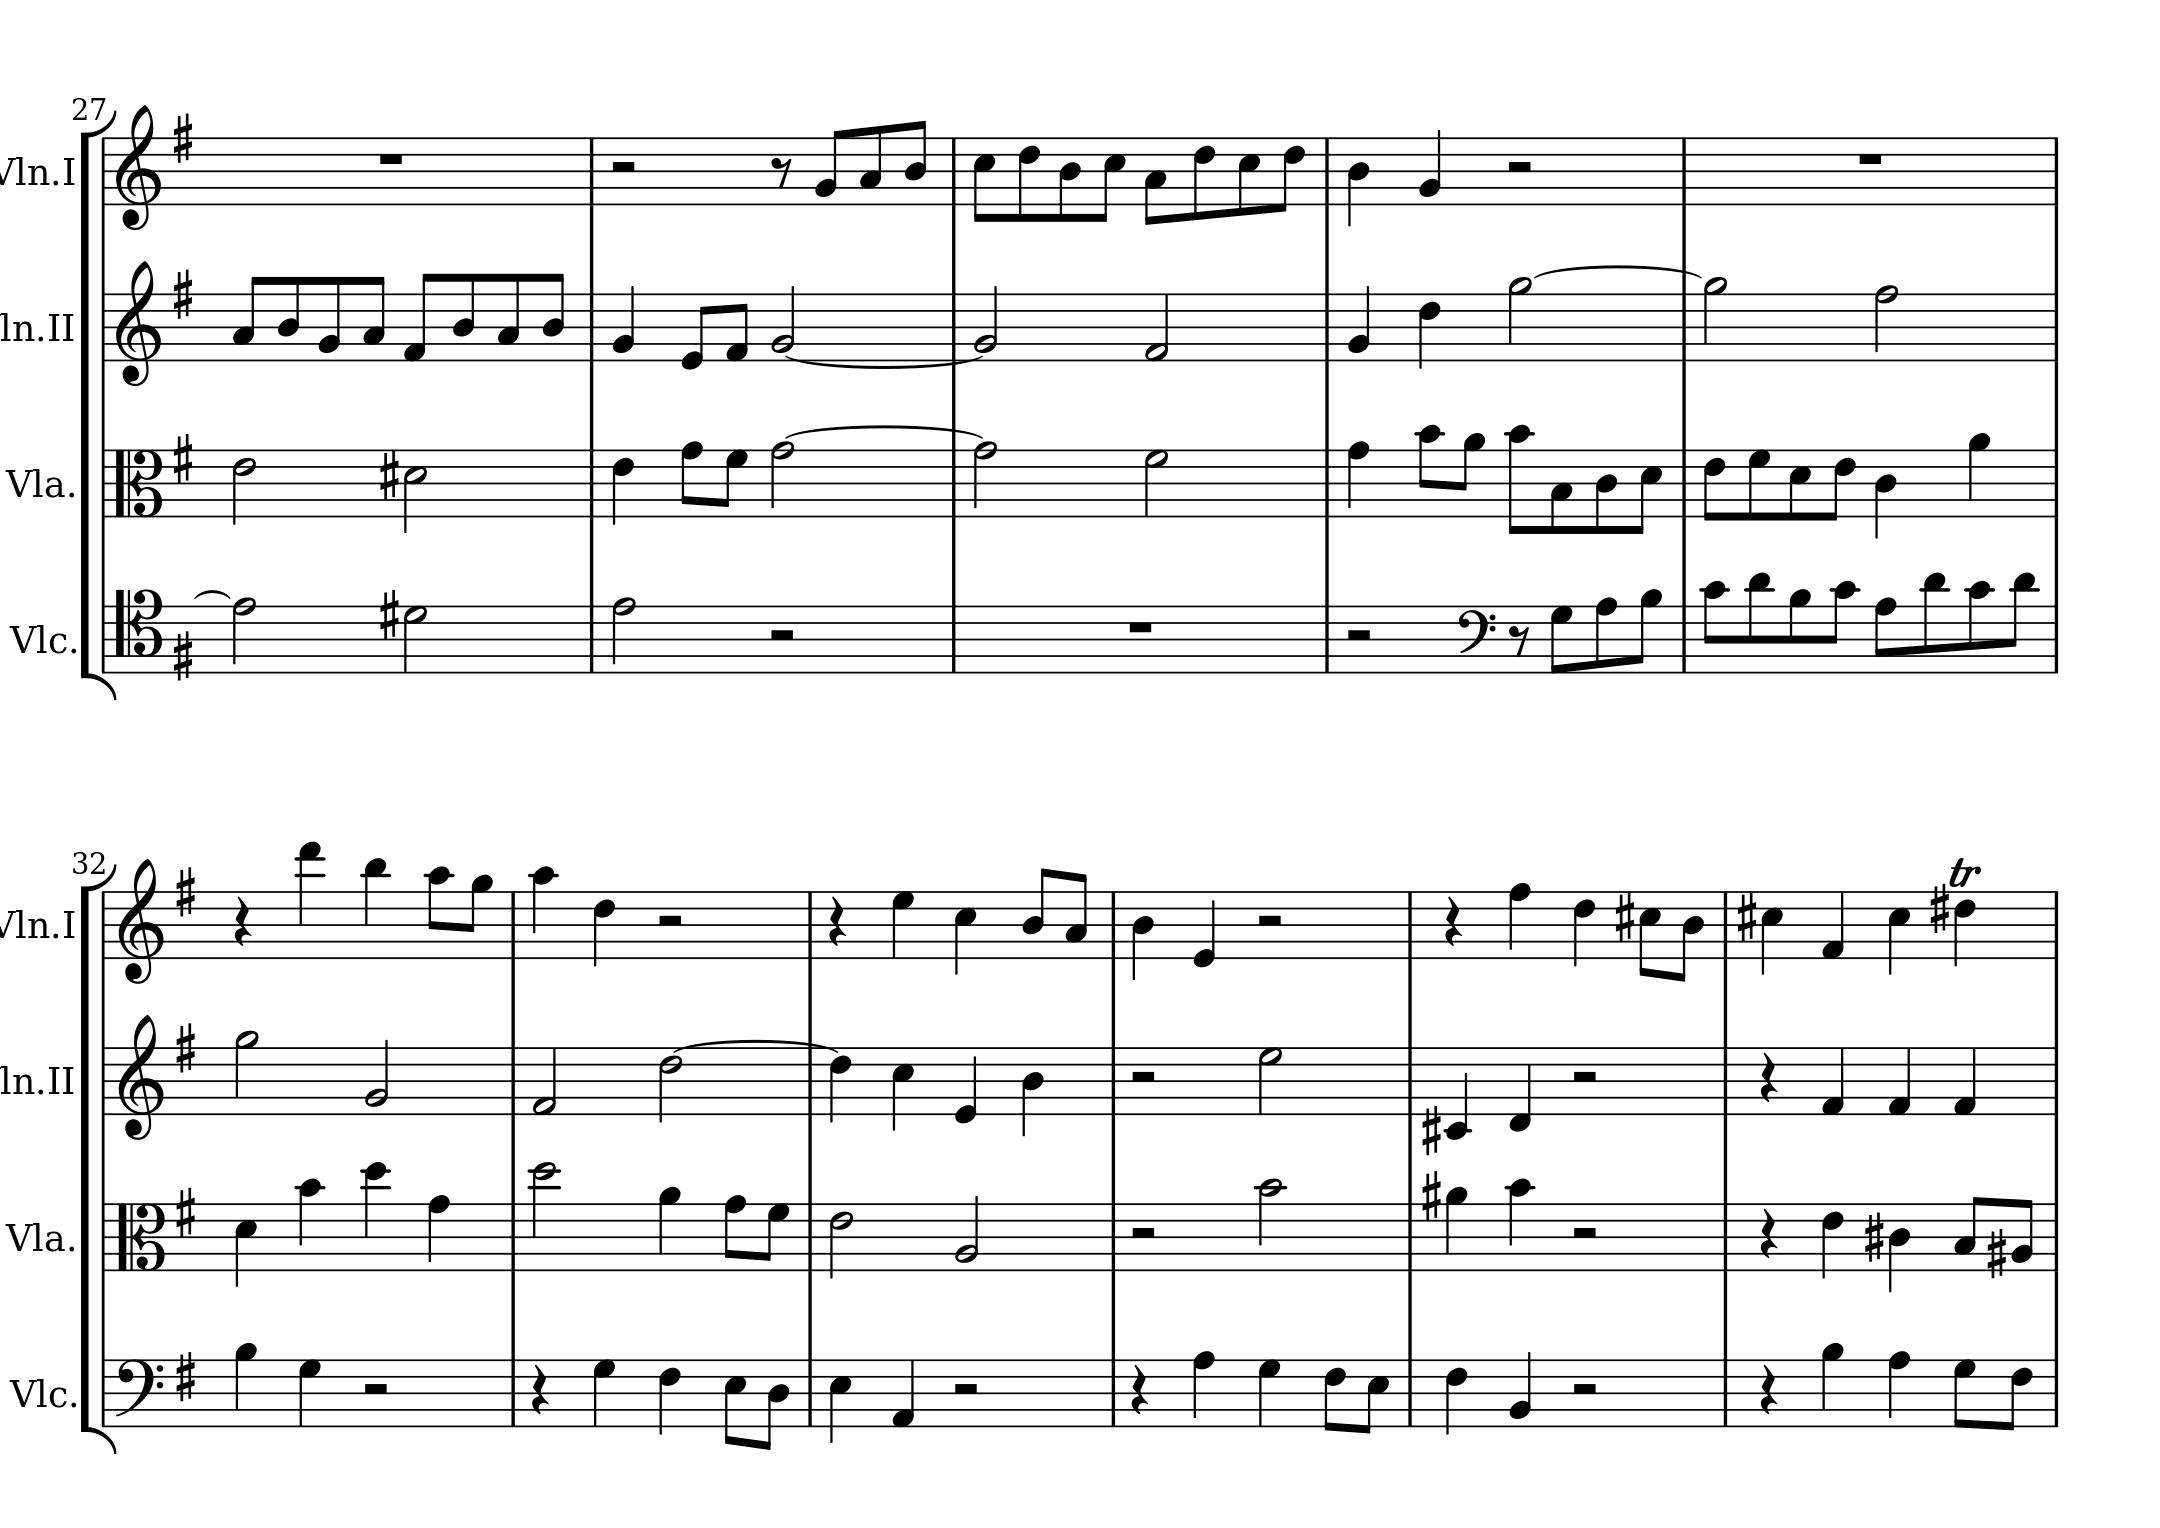2: (69, 96, 88, 122), (88, 848, 106, 875)
2_1: (529, 1043, 559, 1116), (1143, 293, 1171, 364)
2_10: (1255, 1176, 1287, 1273)
2_12: (528, 1159, 561, 1273)
2_2: (953, 1192, 982, 1272), (769, 283, 797, 364), (972, 284, 1001, 364), (362, 1037, 390, 1116)
2_5: (400, 446, 428, 536)
2_6: (232, 446, 258, 528), (657, 1045, 683, 1125), (829, 1201, 853, 1278)
2_7: (1141, 446, 1169, 519), (1255, 1043, 1283, 1116), (400, 604, 427, 675)
2_8: (1872, 283, 1900, 364), (230, 594, 256, 676), (769, 438, 796, 519), (971, 438, 997, 519), (610, 594, 637, 675)
2_9: (1700, 275, 1728, 364), (232, 1029, 260, 1116), (1507, 275, 1533, 364)
3: (71, 848, 88, 875)
4_-1: (1507, 1043, 1532, 1133)
4_-2: (1442, 1043, 1470, 1139)
4_0: (953, 1043, 979, 1125), (1192, 890, 1217, 971)
4_1: (1819, 1045, 1847, 1116), (1885, 1045, 1914, 1116), (1819, 890, 1846, 961), (1952, 1045, 1978, 1116), (890, 1358, 916, 1429)
4_10: (294, 1176, 323, 1273), (529, 863, 556, 961), (1505, 1176, 1532, 1273)
4_11: (361, 855, 389, 962)
4_12: (359, 1161, 390, 1273)
4_13: (294, 840, 324, 962)
4_2: (610, 283, 637, 364), (1346, 283, 1373, 364), (1507, 1349, 1533, 1429), (1417, 127, 1442, 207)
4_4: (1885, 1199, 1912, 1293), (1872, 448, 1899, 541), (1019, 1045, 1045, 1138), (1346, 136, 1371, 228), (1130, 890, 1154, 982)
4_5: (232, 1201, 260, 1288), (953, 888, 977, 977), (890, 1045, 915, 1134), (827, 1356, 852, 1445), (1885, 890, 1910, 977), (1760, 890, 1783, 977)
4_6: (1416, 291, 1442, 370), (1442, 1356, 1469, 1435), (1952, 888, 1976, 969), (610, 446, 635, 526), (592, 888, 617, 967), (1571, 888, 1596, 967), (1819, 1201, 1844, 1280), (657, 1358, 681, 1435), (829, 1043, 852, 1125)
4_7: (296, 1356, 324, 1427), (590, 1358, 617, 1429), (1255, 1358, 1282, 1429), (890, 890, 915, 961)
4_8: (1345, 438, 1371, 519), (425, 1192, 452, 1273), (1885, 1349, 1912, 1429), (1191, 1348, 1216, 1429), (1507, 881, 1532, 961)
4_9: (232, 1339, 260, 1429), (1442, 1184, 1469, 1273), (1819, 1339, 1846, 1429), (657, 1184, 681, 1273), (1966, 430, 1990, 518)
7: (89, 94, 106, 121)
8_0: (680, 293, 711, 372)
8_1: (400, 271, 438, 364), (723, 291, 749, 364)
8_10: (1505, 423, 1535, 537), (1824, 579, 1857, 675), (1699, 579, 1728, 675), (1965, 579, 1993, 675), (1416, 423, 1442, 519), (427, 863, 452, 961)
8_11: (2005, 571, 2038, 675), (1743, 571, 1773, 675), (1920, 569, 1948, 675)
8_2: (814, 127, 845, 207), (316, 275, 342, 364), (2009, 1197, 2034, 1272)
8_3: (232, 275, 265, 364), (495, 271, 523, 364), (1953, 1194, 1985, 1272), (1141, 136, 1168, 227), (1548, 446, 1575, 536), (361, 275, 385, 364), (1063, 871, 1088, 961), (857, 124, 883, 207)
8_4: (1020, 867, 1054, 961), (761, 1356, 791, 1450), (1674, 890, 1704, 982), (541, 270, 567, 364), (276, 275, 303, 364), (452, 271, 476, 364), (903, 117, 928, 208), (1057, 136, 1082, 225), (1593, 446, 1618, 536)
8_5: (1629, 446, 1662, 536), (1095, 136, 1126, 223), (1358, 1356, 1389, 1435), (723, 1356, 748, 1449), (1637, 888, 1662, 977), (971, 136, 996, 223), (1786, 446, 1813, 523), (1235, 136, 1260, 217)
8_6: (1274, 136, 1307, 213), (1824, 446, 1857, 523), (2001, 1358, 2034, 1434), (1015, 136, 1040, 223), (1191, 136, 1216, 222), (1321, 1356, 1346, 1434), (1702, 446, 1727, 523)
8_7: (718, 446, 749, 518), (759, 1201, 791, 1272), (1747, 446, 1771, 521), (1952, 1358, 1976, 1429), (1550, 604, 1573, 675)
8_8: (1872, 595, 1899, 675), (680, 438, 705, 519), (1593, 595, 1618, 676), (723, 1192, 748, 1272)
8_9: (1631, 589, 1662, 675), (1455, 432, 1485, 519), (463, 873, 493, 961), (1786, 589, 1813, 675)
Bracke: (79, 855, 117, 1464), (79, 111, 116, 709)
Cclef: (116, 1201, 167, 1273), (112, 448, 164, 519)
Fclef: (112, 1356, 164, 1430), (1455, 604, 1497, 675)
Gclef: (112, 260, 162, 389), (117, 1012, 165, 1143), (112, 103, 160, 232), (117, 857, 165, 986)
Rests1: (375, 149, 407, 169), (1854, 149, 1885, 167), (1125, 617, 1156, 635)
Rests2: (653, 910, 686, 933), (1254, 910, 1287, 933), (1126, 1067, 1159, 1088), (1126, 1222, 1159, 1244), (1341, 625, 1376, 645), (357, 1379, 392, 1399), (1568, 1067, 1601, 1086), (1502, 159, 1536, 177), (1570, 1222, 1599, 1242), (607, 159, 638, 177), (949, 1379, 981, 1397), (1568, 1379, 1599, 1397), (766, 627, 797, 643)
Rests4: (230, 895, 253, 949), (825, 895, 848, 949), (1441, 895, 1464, 949), (1756, 1050, 1780, 1105), (528, 1363, 551, 1417), (1128, 1363, 1151, 1417), (1756, 1363, 1780, 1417), (1756, 1206, 1778, 1262)
Rests8: (771, 154, 794, 190), (1508, 623, 1532, 658)
Sharp: (169, 112, 197, 167), (169, 266, 197, 321), (1417, 1103, 1442, 1159), (1417, 1167, 1442, 1224), (174, 1349, 198, 1406), (170, 432, 194, 486), (174, 865, 197, 919), (174, 1020, 197, 1075), (1613, 890, 1636, 943), (174, 1186, 197, 1239), (1862, 1210, 1885, 1263), (377, 448, 399, 503), (377, 589, 399, 643), (172, 628, 194, 681), (1985, 1227, 2006, 1280), (1737, 890, 1756, 943), (1928, 881, 1948, 934)
Single_barline: (1675, 293, 1697, 361), (1674, 136, 1694, 203), (1103, 1202, 1123, 1268), (1399, 1358, 1419, 1424), (1317, 605, 1336, 670), (582, 137, 600, 205), (2046, 293, 2064, 361), (1675, 448, 1694, 516), (800, 1202, 819, 1270), (94, 450, 112, 516), (582, 450, 600, 516), (1318, 450, 1336, 516), (582, 605, 600, 671), (944, 605, 963, 671), (504, 891, 523, 957), (2048, 891, 2066, 957), (1105, 1047, 1123, 1113), (504, 1202, 523, 1268), (94, 1202, 112, 1268), (1401, 1202, 1419, 1268), (800, 1358, 819, 1424), (948, 450, 966, 514), (94, 605, 112, 670), (802, 1052, 820, 1115), (2048, 137, 2064, 205), (582, 293, 599, 361), (1675, 604, 1692, 671), (802, 890, 819, 957), (1105, 890, 1121, 957), (96, 1047, 112, 1115), (504, 1047, 521, 1115), (2048, 1047, 2064, 1115), (2048, 1202, 2064, 1270), (2048, 1358, 2064, 1425), (96, 137, 112, 203), (1318, 294, 1335, 361), (2048, 450, 2064, 516), (96, 891, 112, 957), (1717, 891, 1733, 957), (1401, 1047, 1417, 1113), (1717, 1047, 1733, 1113), (1717, 1202, 1733, 1268), (1717, 1358, 1733, 1424), (1401, 891, 1417, 956), (96, 1359, 112, 1424), (504, 1359, 521, 1424), (1105, 1359, 1121, 1424), (946, 294, 963, 357), (946, 137, 961, 205), (1320, 137, 1335, 205), (98, 293, 112, 361), (2049, 605, 2064, 671)
Slur: (192, 589, 232, 600)
Tensor_Cclef: (112, 585, 162, 673)
Trill: (1945, 853, 1983, 888)
Vla: (5, 461, 68, 508), (5, 1215, 68, 1262)
Vlc: (7, 615, 69, 660), (7, 1369, 69, 1412)
Vln: (2, 147, 51, 193)
